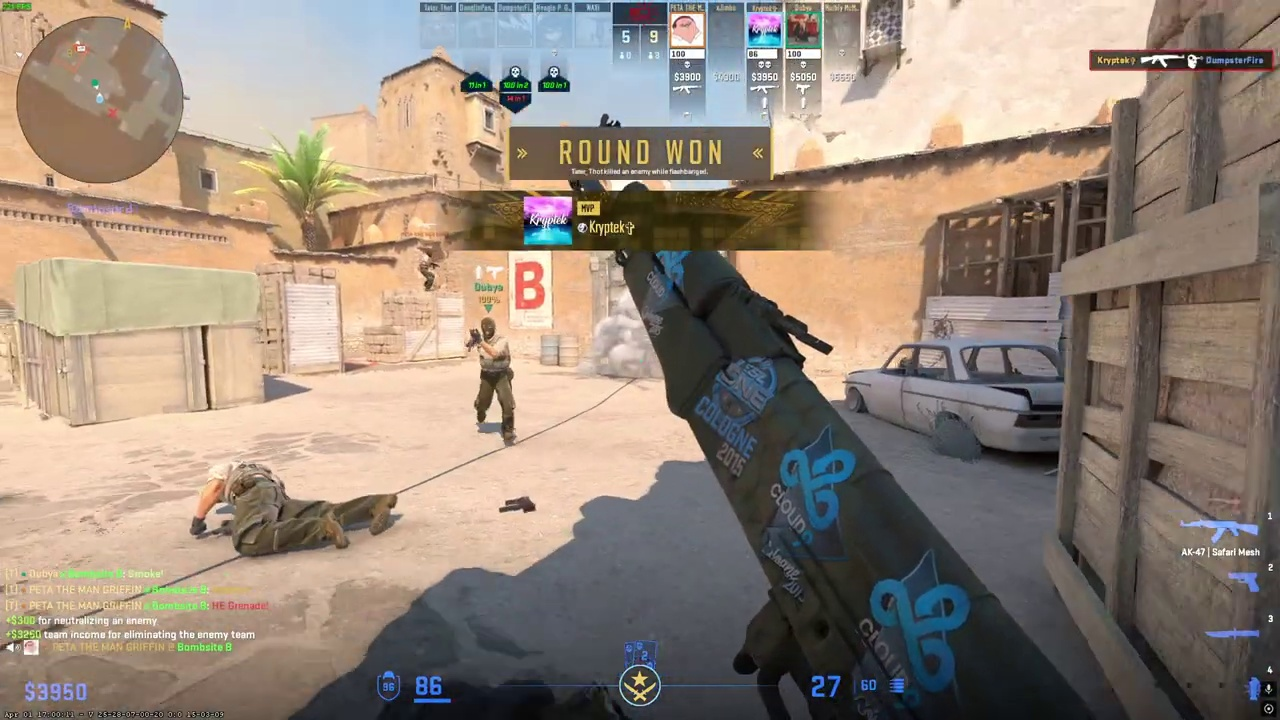Terrorist: (470, 317, 516, 442), (420, 251, 435, 291)
